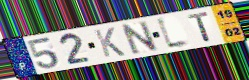2: (58, 32, 94, 66)
5: (25, 35, 62, 71)
K: (92, 27, 127, 59)
L: (154, 15, 195, 52)
N: (119, 19, 161, 56)
T: (186, 10, 213, 43)
